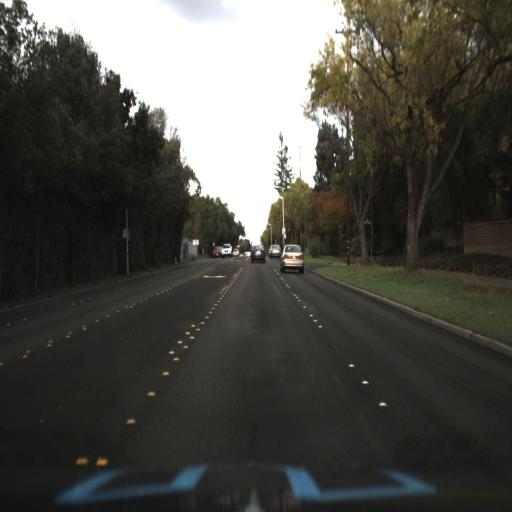car: (278, 236, 303, 271), (249, 239, 265, 264), (268, 240, 284, 263), (267, 241, 279, 260), (222, 243, 232, 257)
